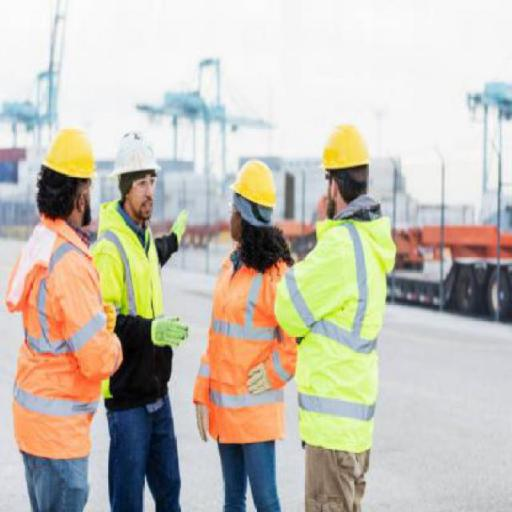glass: (127, 171, 162, 196)
hardhat: (38, 121, 104, 185), (106, 123, 174, 181), (313, 120, 377, 179), (224, 154, 283, 211)
person: (278, 116, 402, 511), (92, 121, 194, 510), (190, 142, 292, 510)
vest: (2, 224, 112, 460), (287, 222, 392, 456), (190, 261, 288, 425), (98, 222, 166, 314)
